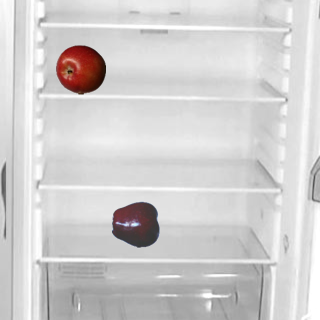Apple Braeburn: (55, 44, 105, 94)
Apple Red Delicious: (111, 199, 161, 249)
